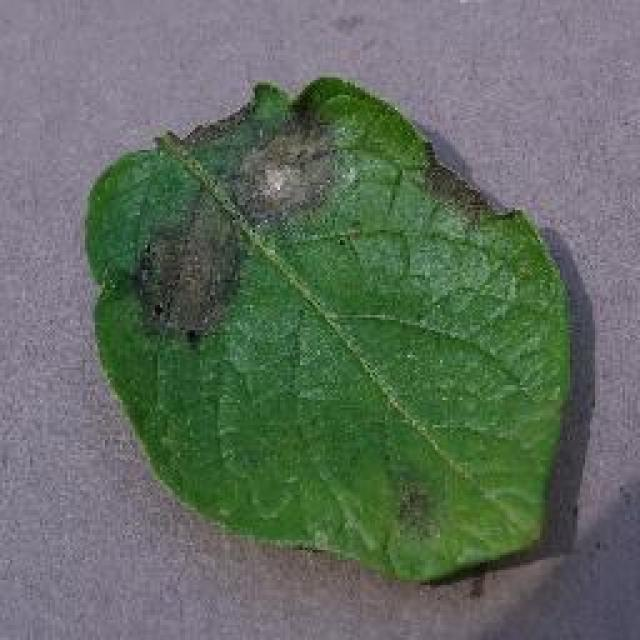Late_blight: (119, 70, 365, 368), (408, 142, 527, 252), (364, 439, 441, 546)
